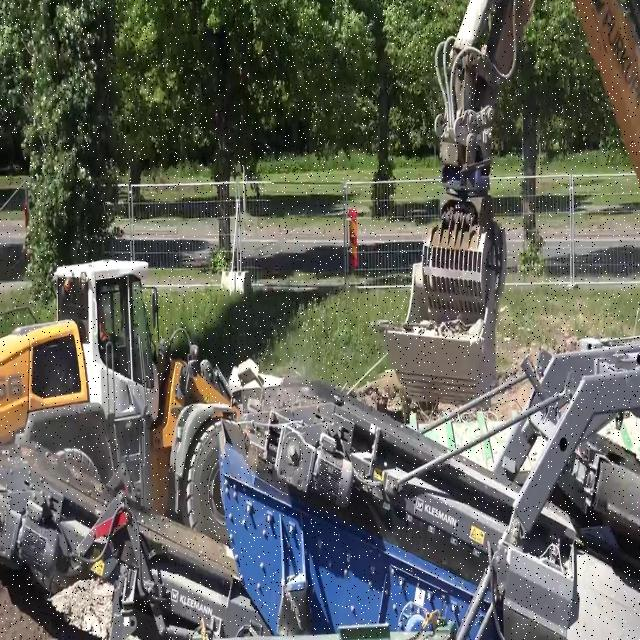Excavator: (372, 4, 640, 402)
Loader: (0, 256, 257, 542)
